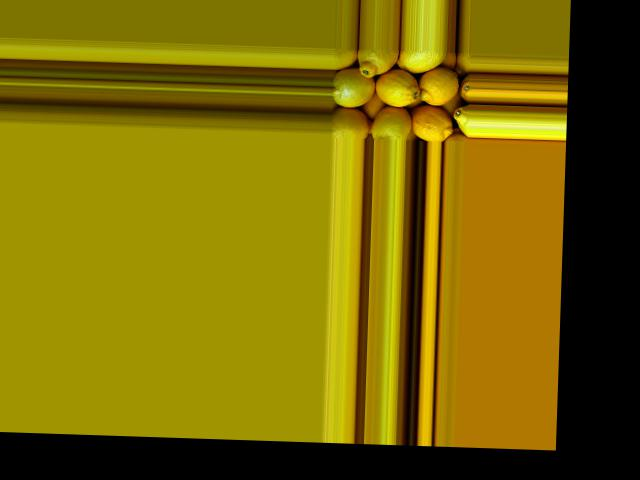lemon: (332, 50, 356, 71)
